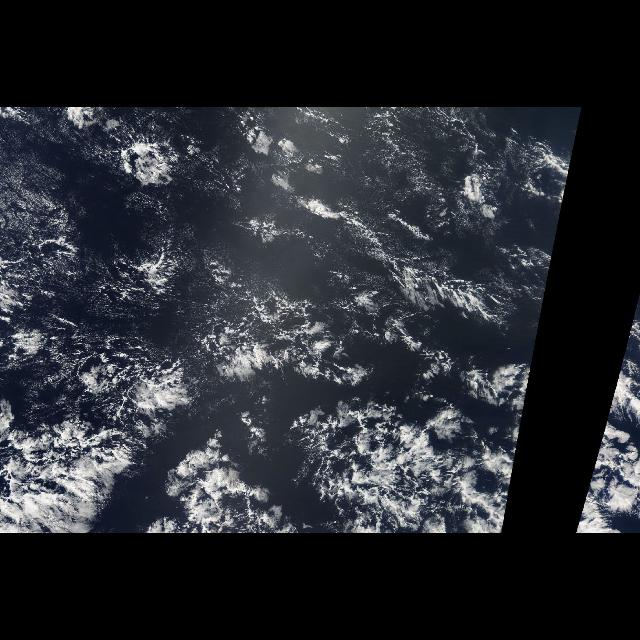Fish: (1, 331, 196, 533), (276, 387, 506, 533)
Sugar: (268, 109, 544, 269), (1, 112, 123, 314)
